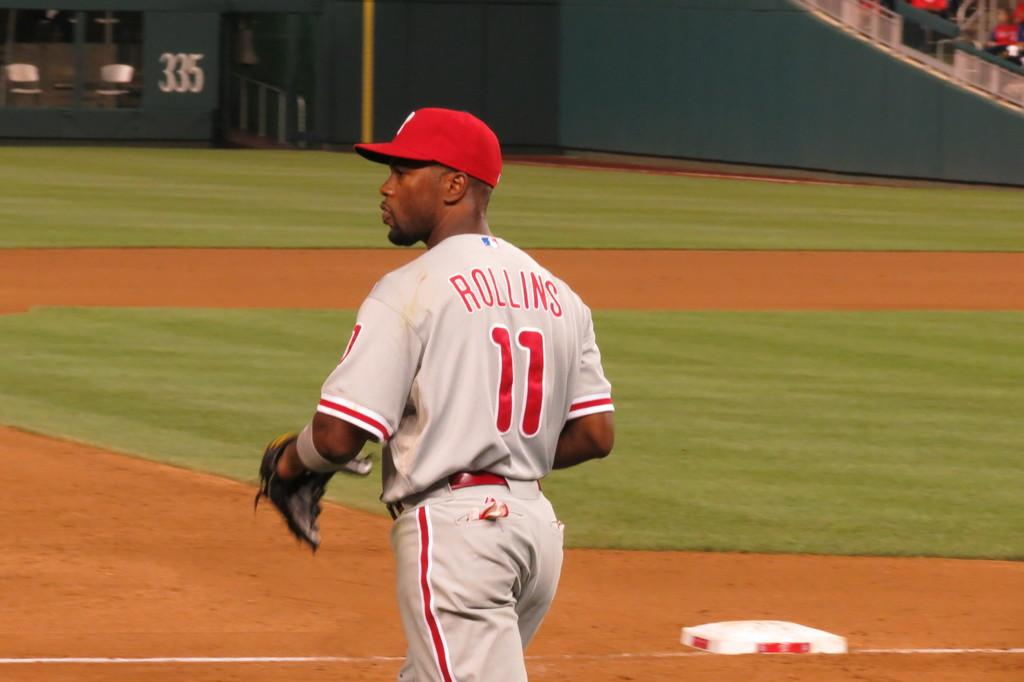Hat: (354, 102, 500, 187)
